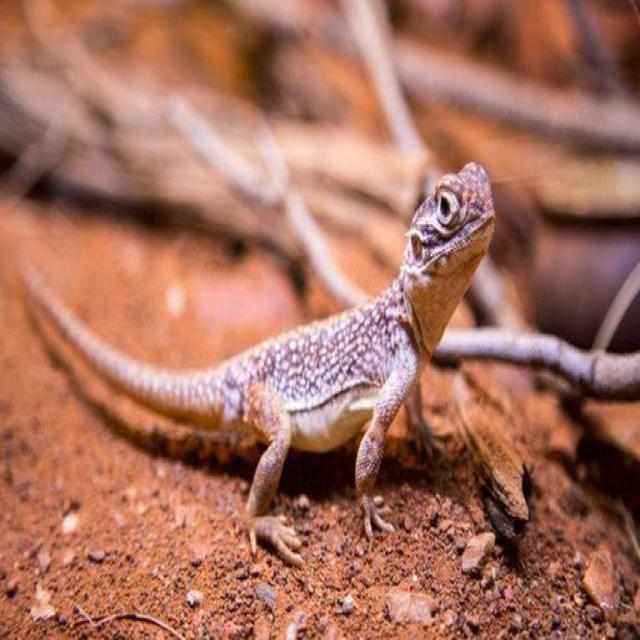Lizard: (26, 152, 496, 546)
